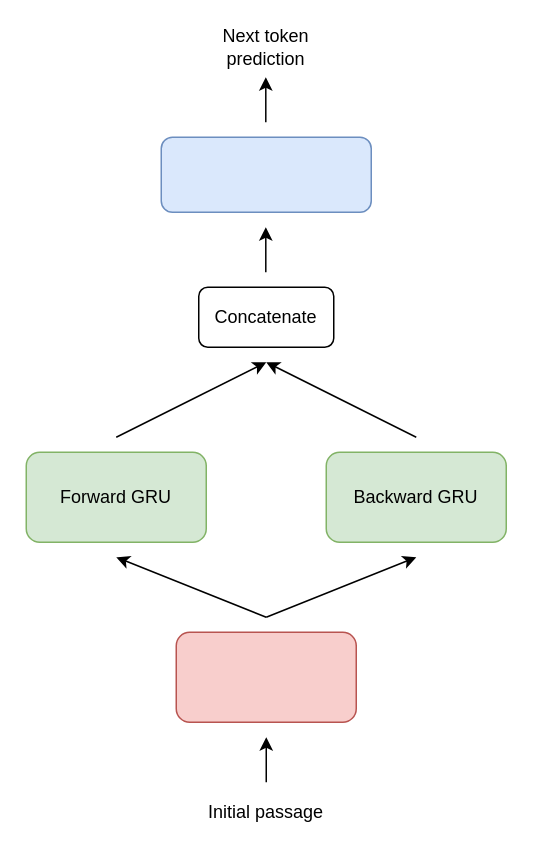
Image size: 533x854. Some labels were removed from this diagram. Each missing label, with the centre of its shape:
"Embedding layer" belongs at (x=265, y=676).
"Output layer" belongs at (x=265, y=174).
